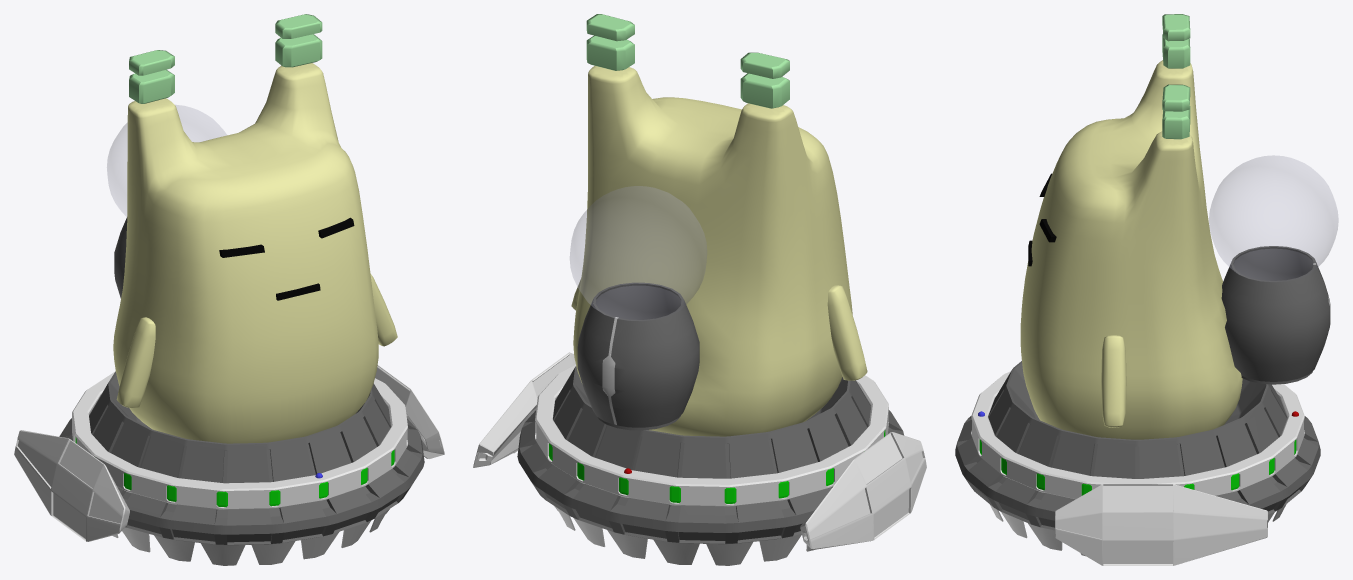
The model's file is alien_noGunnoRigging_wHover2.0.fbx.
3 views of the same model, side by side, from view 1: azimuth 30°, elevation 25°; view 2: azimuth 150°, elevation 25°; view 3: azimuth 270°, elevation 25° (orthographic). The views are drawn at different scales.
Parts seen in each view (by area): view 1: alien; view 2: alien; view 3: alien.
Boxes of the visible parts, box(x1,y1,x2,y2) form: alien: box(14, 14, 444, 565); alien: box(473, 14, 926, 565); alien: box(955, 14, 1338, 565).
Size of the model in its own units: 183 by 228 by 179.
